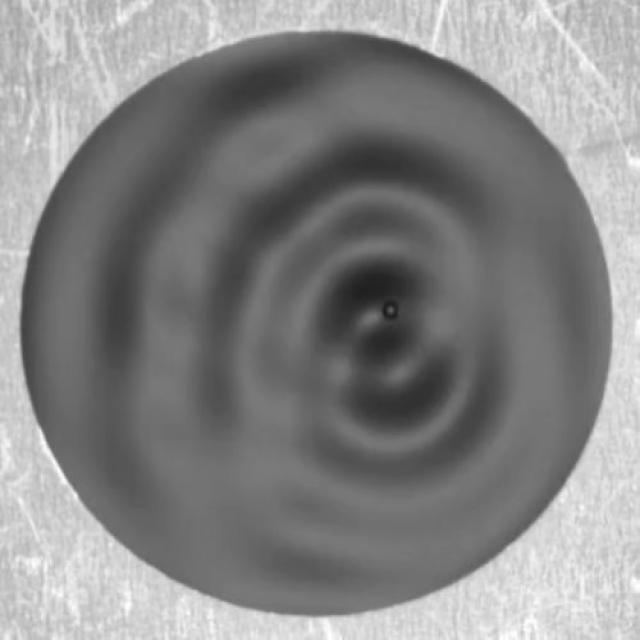droplet: (381, 300, 400, 324)
